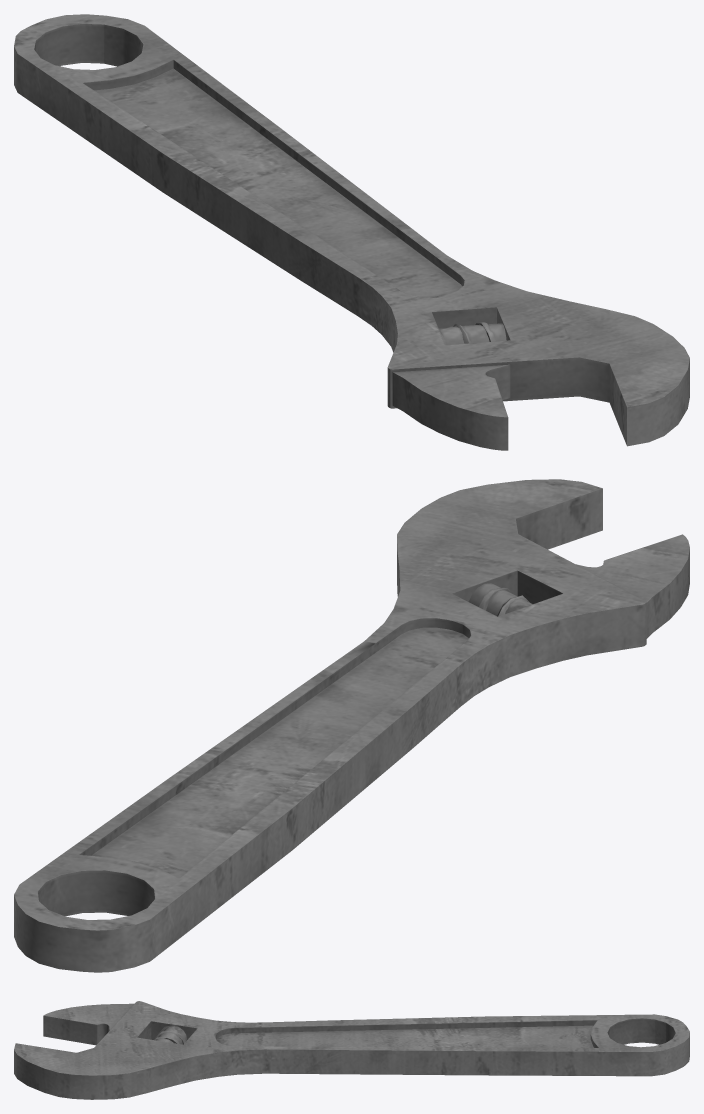
Rendered from Wrench.fbx.
The picture shows the model from 3 angles, top to bottom: view 1: azimuth 30°, elevation 25°; view 2: azimuth 150°, elevation 25°; view 3: azimuth 270°, elevation 25°; orthographic projection. The views are drawn at different scales.
Parts seen in each view (by area): view 1: Wrench; view 2: Wrench; view 3: Wrench.
Part boxes in pixels (x1=…): Wrench: x1=14, y1=14, x2=689, y2=450; Wrench: x1=14, y1=479, x2=689, y2=972; Wrench: x1=14, y1=1001, x2=689, y2=1099.
Bounding box in the file's own units: 37.8 × 6.22 × 145.
